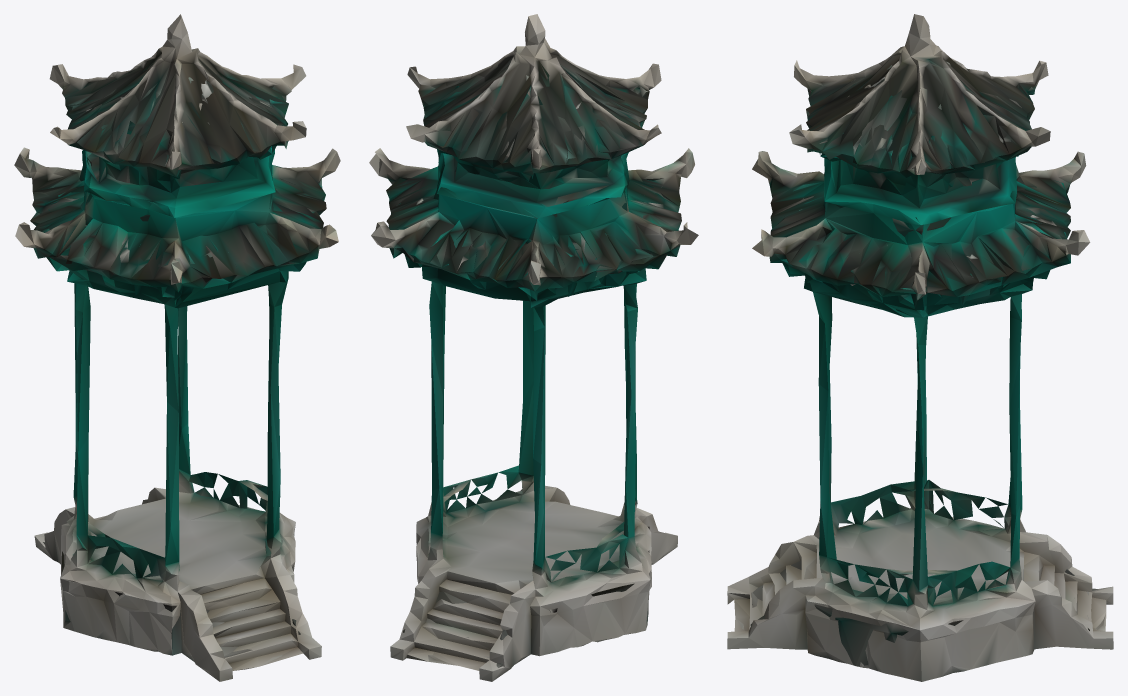
The model's file is bq_herb_pav.vc.glb.
3 renders of one model, left to right at view 1: azimuth 30°, elevation 25°; view 2: azimuth 150°, elevation 25°; view 3: azimuth 270°, elevation 25°, orthographic. The views are drawn at different scales.
Visible parts, largest first — view 1: bq_herb_pav; view 2: bq_herb_pav; view 3: bq_herb_pav.
Part boxes in pixels (x1=…): bq_herb_pav: x1=14, y1=14, x2=340, y2=681; bq_herb_pav: x1=369, y1=14, x2=698, y2=681; bq_herb_pav: x1=727, y1=14, x2=1113, y2=681.
Bounding box in the file's own units: 1.11 × 1.9 × 1.09.
